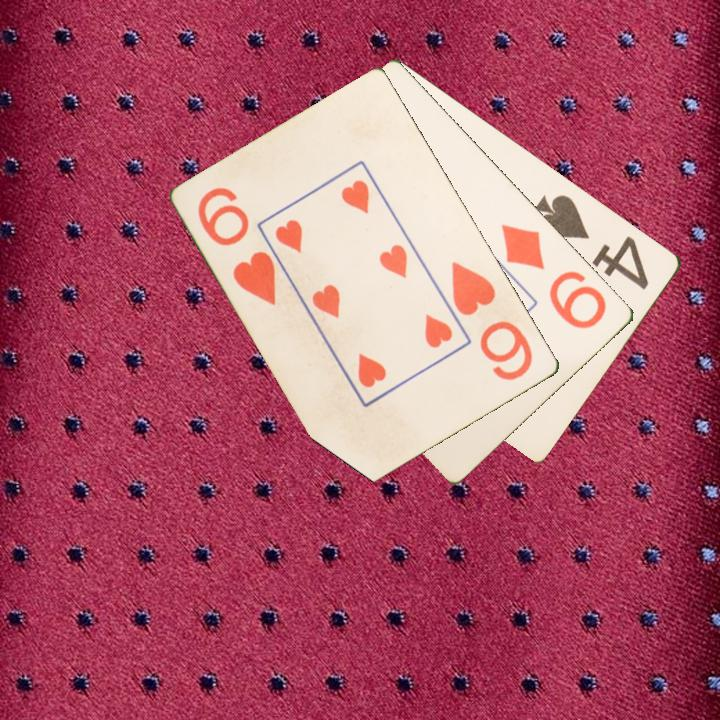4s: (530, 190, 653, 293)
6h: (448, 257, 537, 384), (194, 183, 283, 309)
9d: (498, 220, 610, 332)
